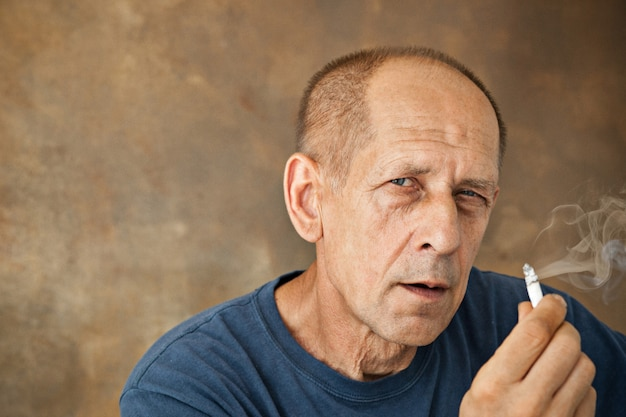cigarette: (522, 261, 542, 311)
